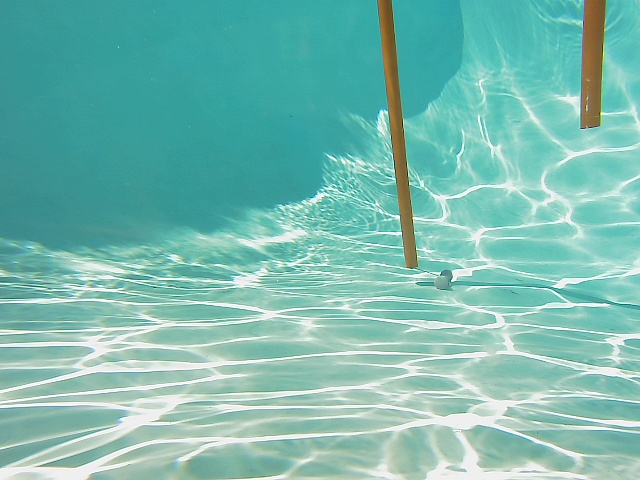Gate: (375, 1, 420, 273), (581, 1, 609, 131)
